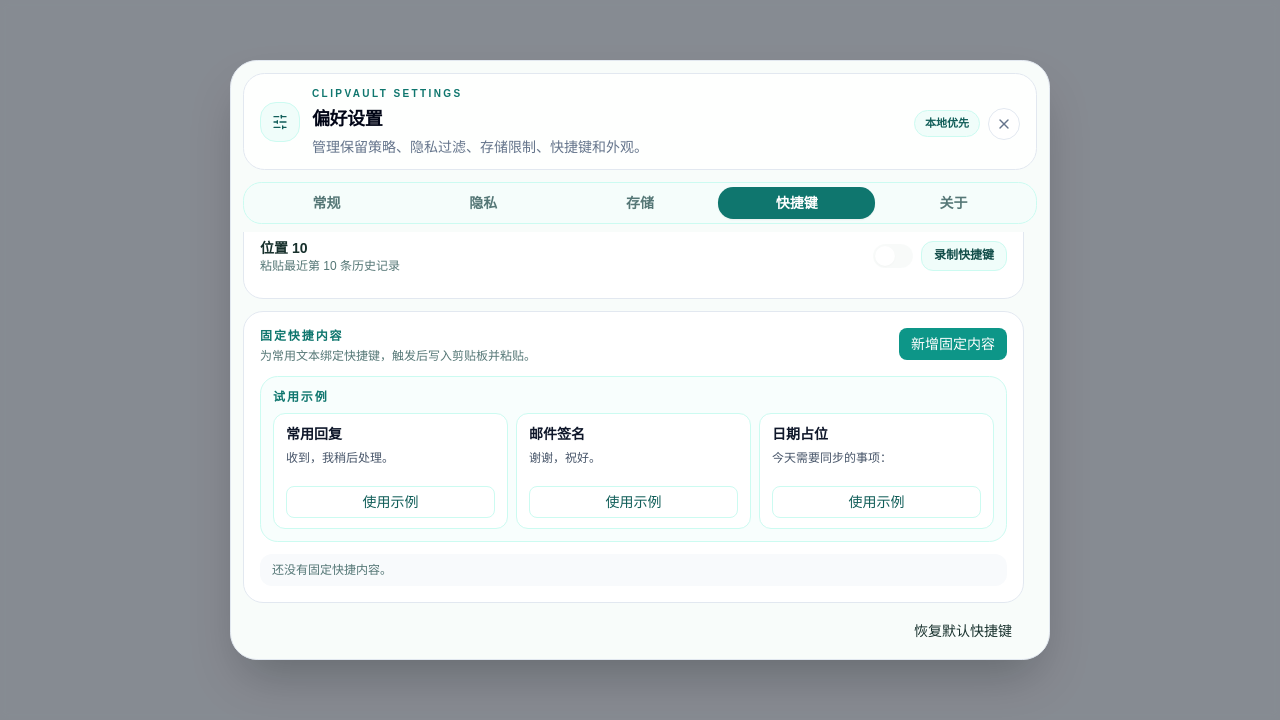
SettingsPanel › prefills the fixed content form from a trial example
(page scrolled)
Click the button with aria-label "使用示例 常用回复" at coordinates (390, 502), box [286,486,495,518]
(page scrolled)
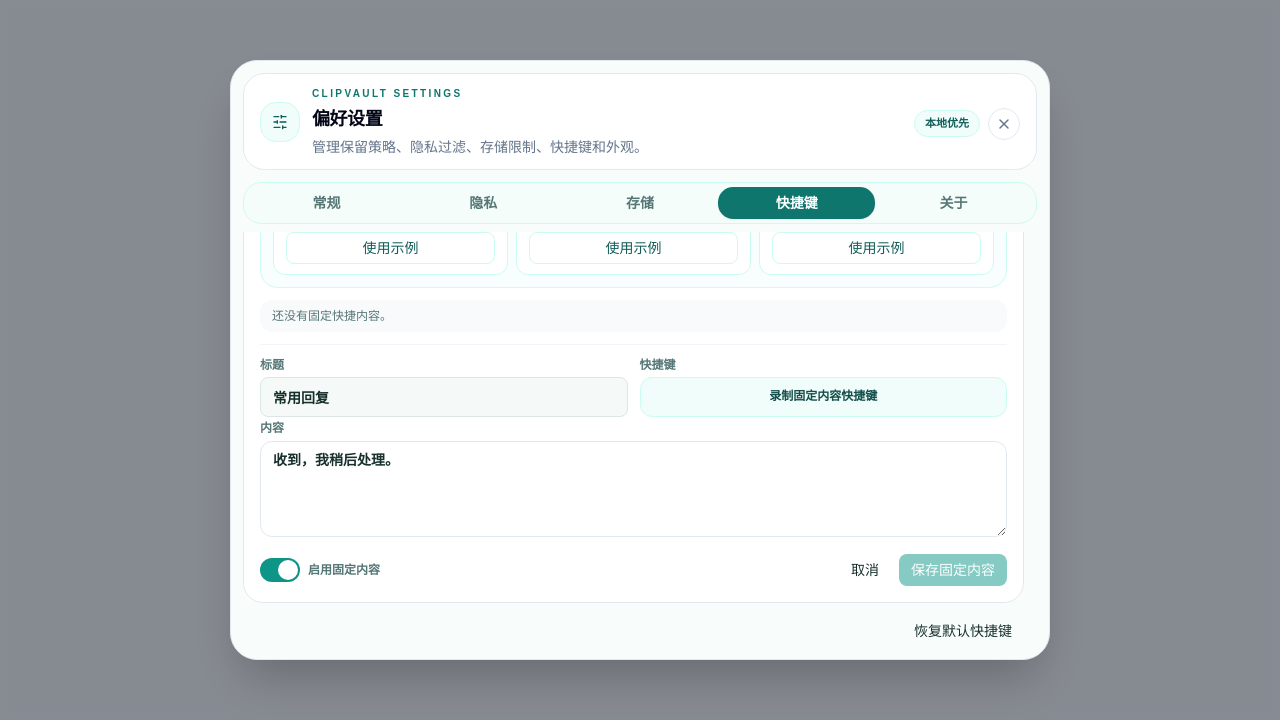
Expected: the field labelled "标题" holds "常用回复", [260,377,628,417]
Expected: the text box labelled "内容" holds "收到，我稍后处理。", [260,441,1007,537]
Expected: the button "保存固定内容" is disabled, [899,554,1007,586]
